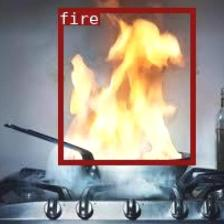fire: (58, 7, 194, 164)
